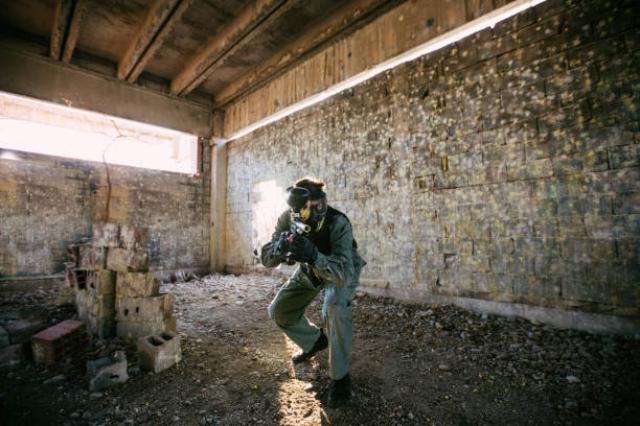other: (268, 179, 360, 382)
